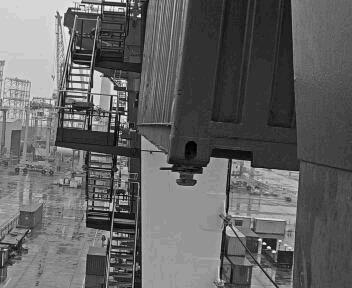twist_lock_1: (208, 181, 261, 219)
